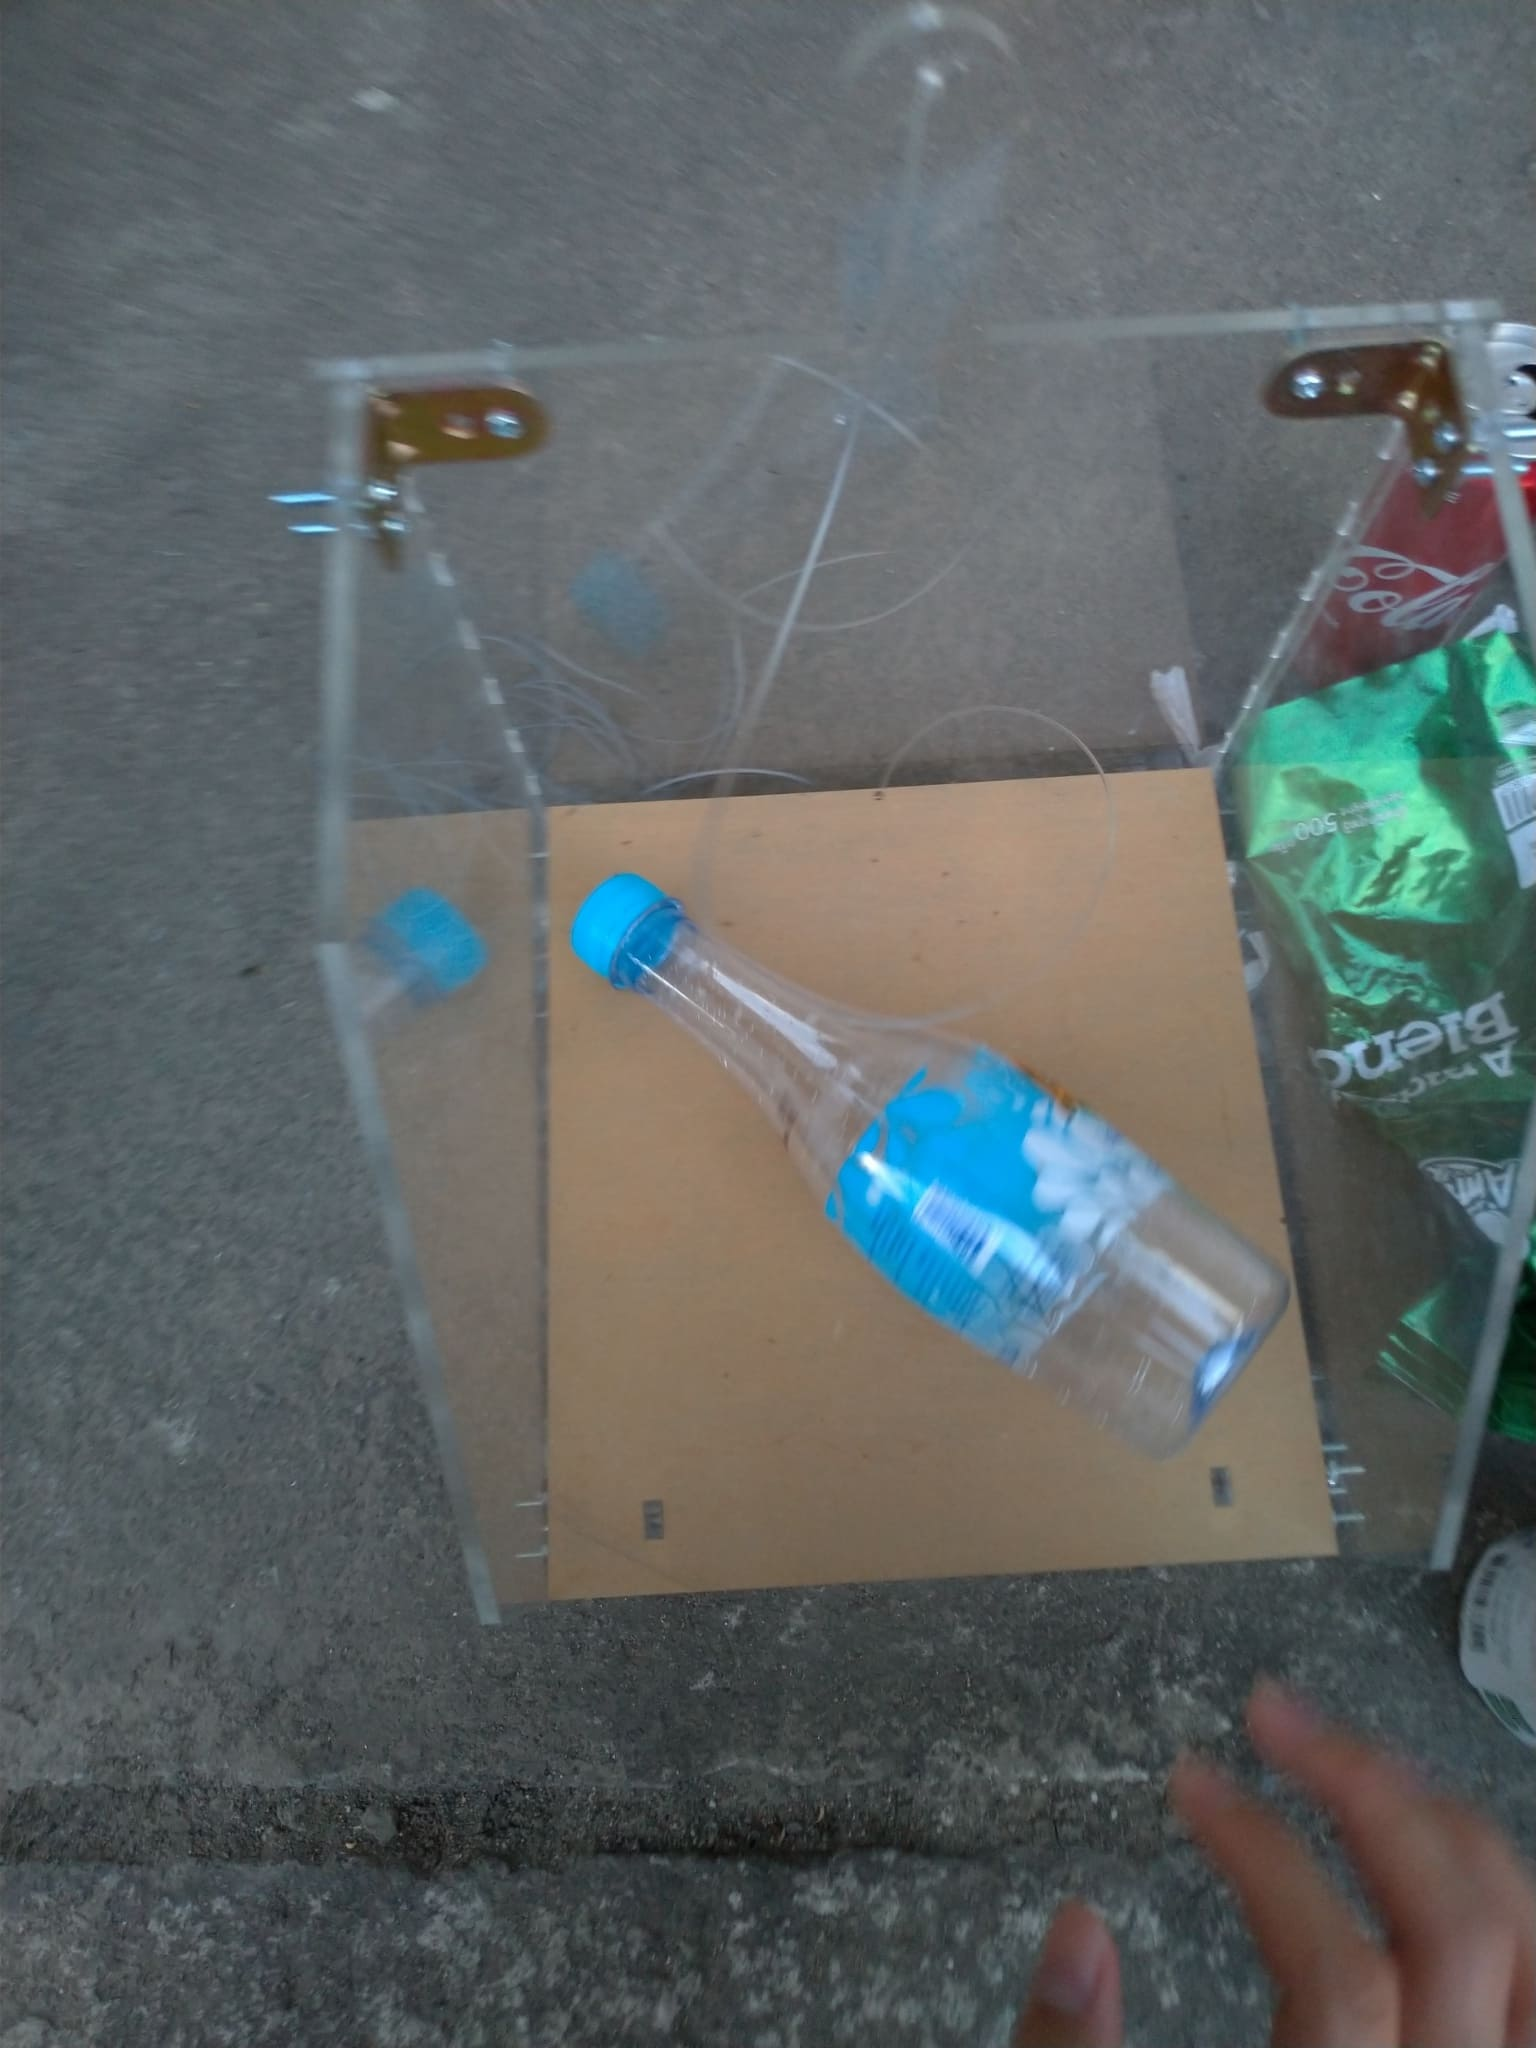AlCan: (1299, 303, 1536, 693)
Others: (1234, 655, 1536, 1401)
PlasticBottle: (576, 871, 1289, 1442)
